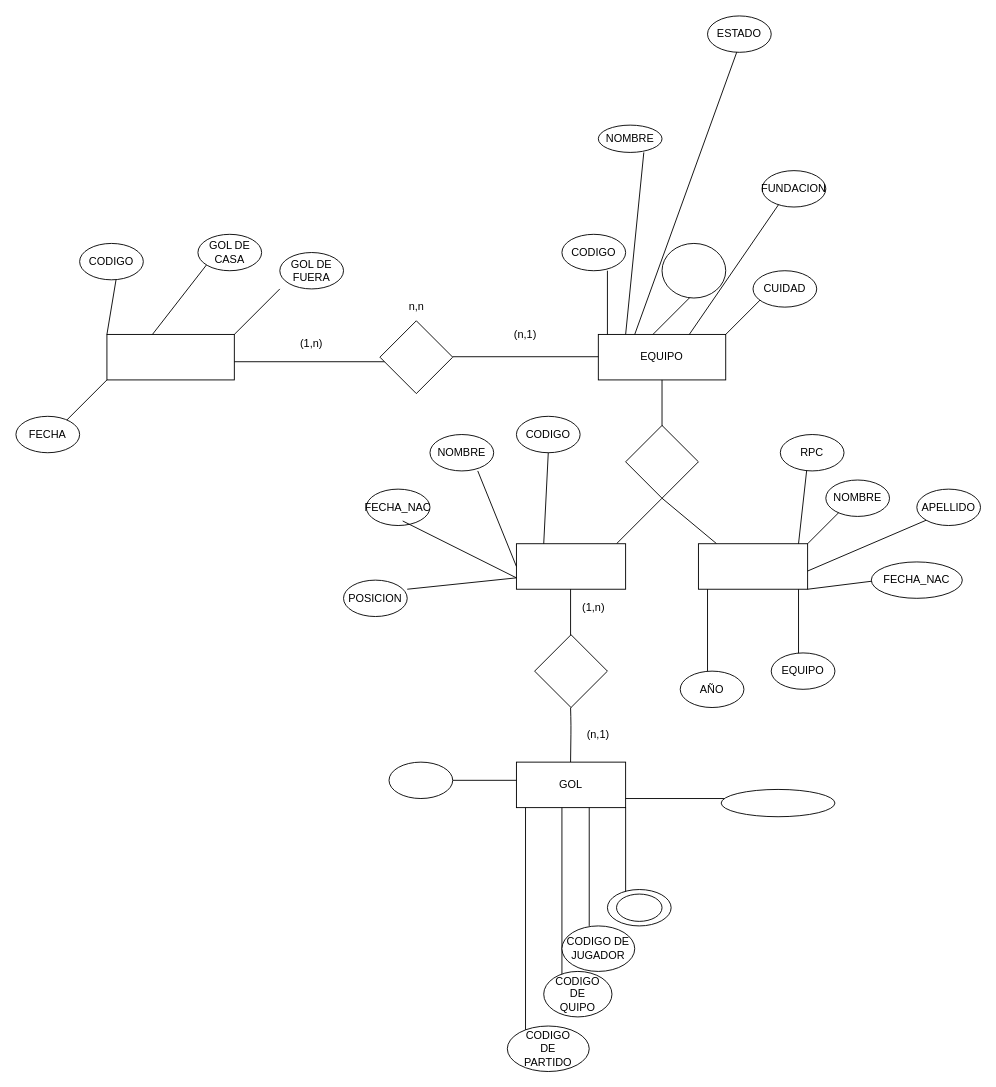
This 996x1087 diagram has some shape labels left out. Here are the shapes that lost their labels. From the top down, the centre of each, then its label:
the point at 693,270: AFORO
the point at 170,357: PARTIDO
the point at 416,357: JUEGA
the point at 661,461: TIENE
the point at 571,566: JUGADOR
the point at 753,566: PRESIDENTE
the point at 570,671: METE
the point at 420,780: NUMERO
the point at 777,803: DESCRIPCION
the point at 639,907: TIEMPO
